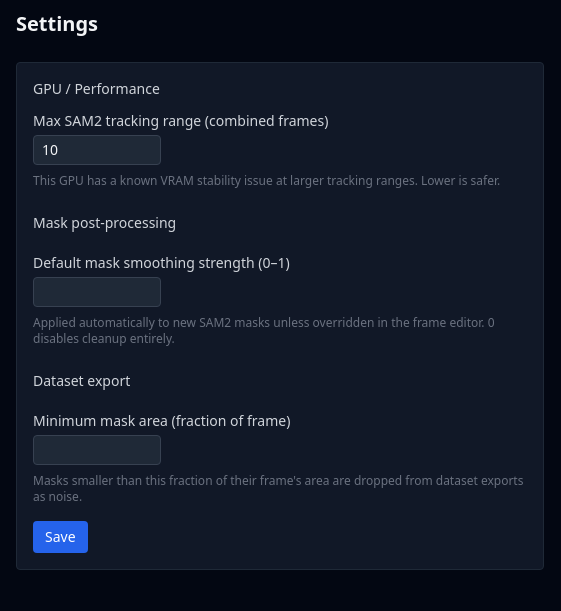
Test: SettingsPage › shows an inline error message when the save fails
Click the button "Save".
click(60, 537)  # box [33, 521, 88, 553]
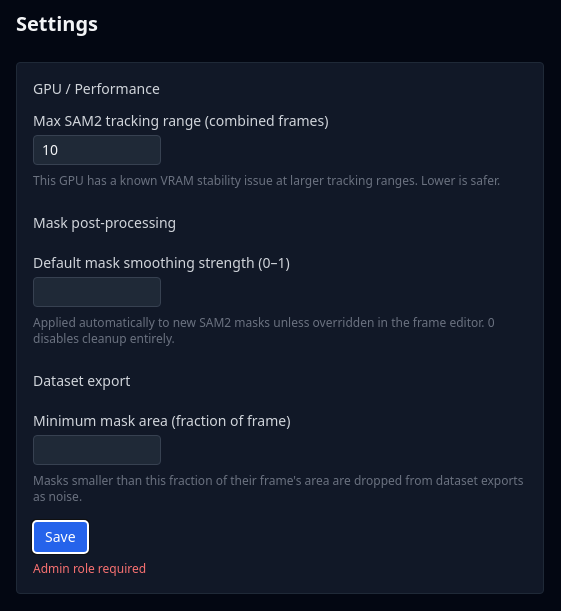
Now the text "Admin role required" is shown, box [33, 560, 146, 577]
